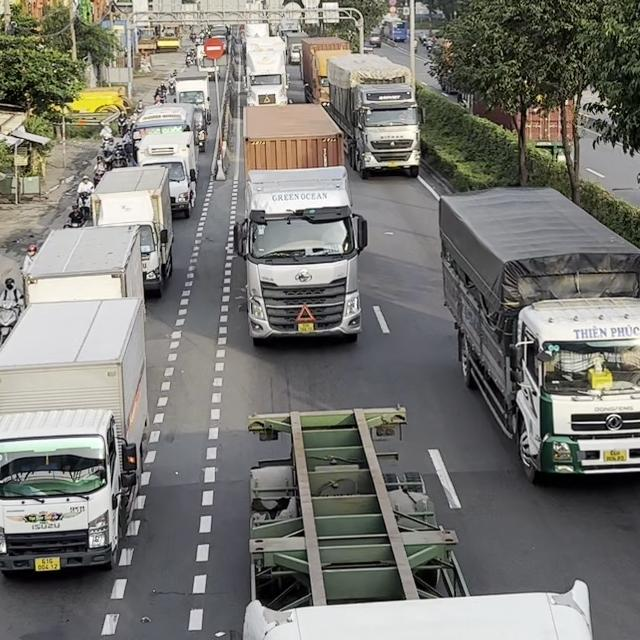motorcycle: (0, 277, 24, 345)
truck: (234, 405, 587, 640), (438, 184, 639, 484), (0, 296, 148, 575), (232, 101, 368, 344), (320, 52, 424, 179), (89, 165, 174, 296), (23, 223, 145, 307), (136, 130, 198, 218), (299, 36, 352, 103), (244, 35, 289, 106), (173, 75, 211, 123)
